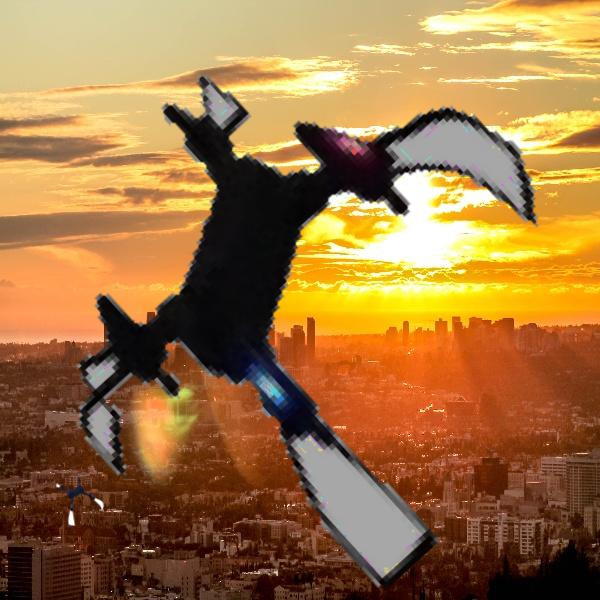drone: (38, 34, 575, 571), (54, 474, 108, 528)
